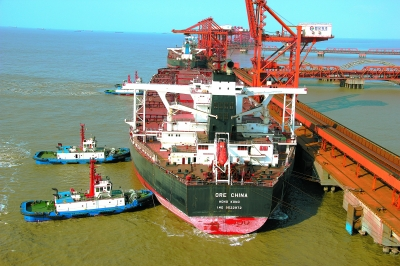Cargoship: (124, 34, 299, 234)
otherboat: (18, 170, 155, 224), (33, 126, 136, 167), (102, 71, 152, 97)
